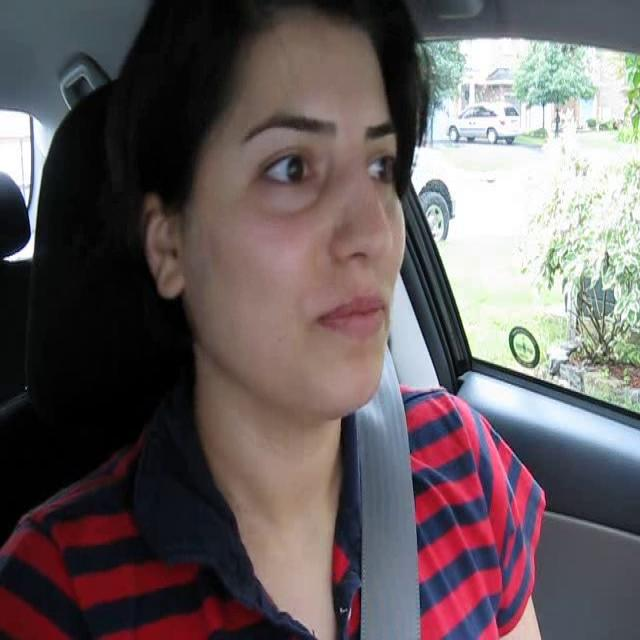close: (317, 288, 389, 339)
